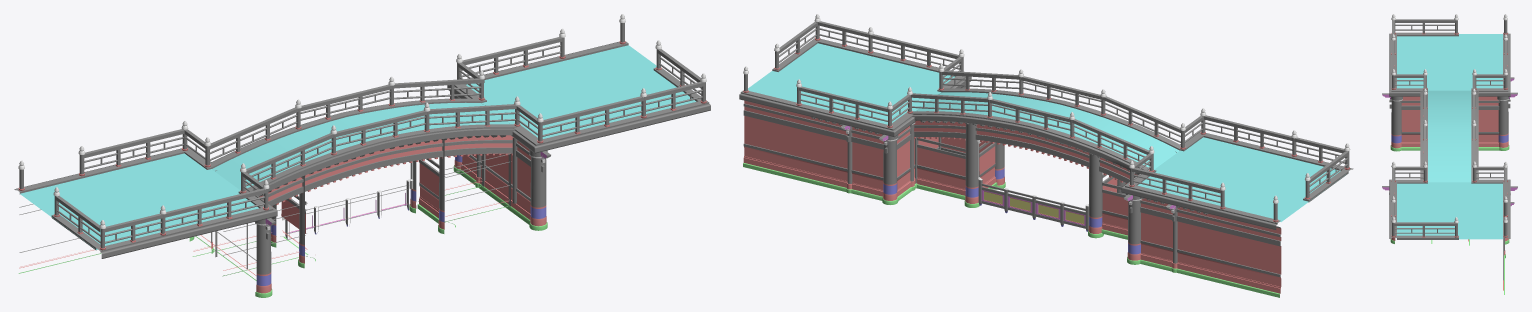
Rendered from SM_ENV_LKNVLD_WallSet_Bridge.gltf.
3 views of the same model, side by side, from view 1: azimuth 30°, elevation 25°; view 2: azimuth 150°, elevation 25°; view 3: azimuth 270°, elevation 25° (orthographic). The views are drawn at different scales.
Parts seen in each view (by area): view 1: SM_ENV_LKNVLD_WallSet_Bridge; view 2: SM_ENV_LKNVLD_WallSet_Bridge; view 3: SM_ENV_LKNVLD_WallSet_Bridge.
Boxes of the visible parts, box(x1,y1,x2,y2) form: SM_ENV_LKNVLD_WallSet_Bridge: box(14, 14, 710, 297); SM_ENV_LKNVLD_WallSet_Bridge: box(739, 14, 1353, 297); SM_ENV_LKNVLD_WallSet_Bridge: box(1382, 14, 1517, 294).
Size of the model in its own units: 44.9 by 9.57 by 12.56.
